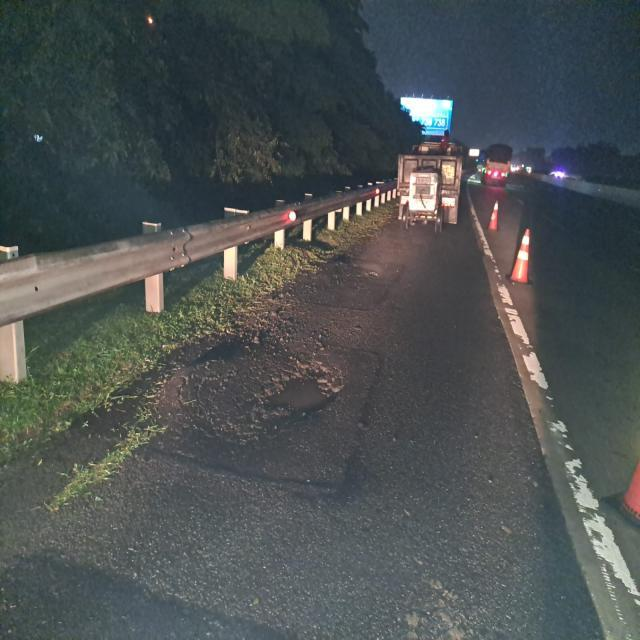Buraco: (240, 354, 349, 443), (362, 270, 380, 282)
